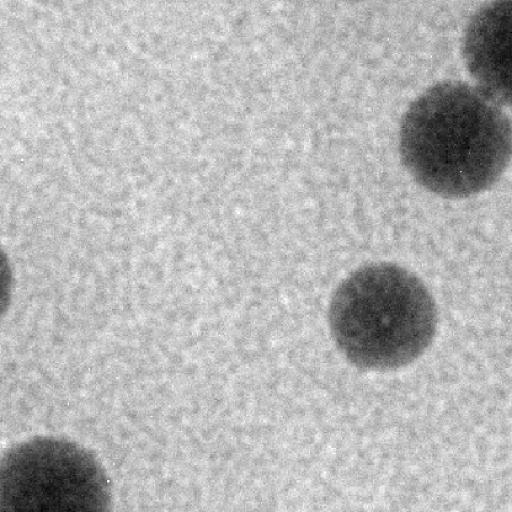Nanoparticles: (396, 79, 508, 202), (328, 261, 439, 373), (0, 433, 117, 512), (461, 0, 512, 102)
